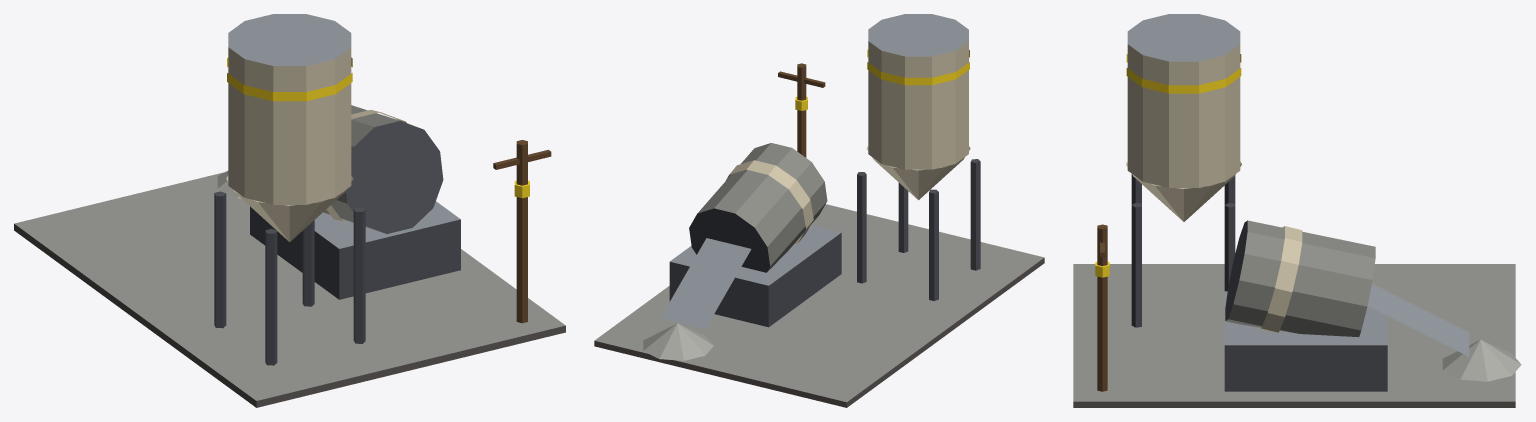
File: concrete_mixer.glb
The picture shows the model from 3 angles, left to right: view 1: azimuth 30°, elevation 25°; view 2: azimuth 150°, elevation 25°; view 3: azimuth 270°, elevation 25°; orthographic projection. The views are drawn at different scales.
Parts seen in each view (by area): view 1: concrete_mixer; view 2: concrete_mixer; view 3: concrete_mixer.
Boxes of the visible parts, <box> form: concrete_mixer: <box>14,14,565,407</box>; concrete_mixer: <box>594,14,1044,407</box>; concrete_mixer: <box>1073,14,1521,407</box>.
Size of the model in its own units: 2.8 by 2.6 by 3.85.
